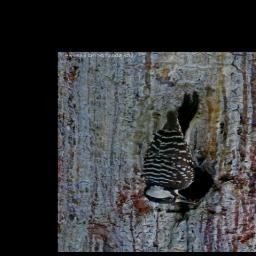Woodpecker: (137, 91, 203, 207)
